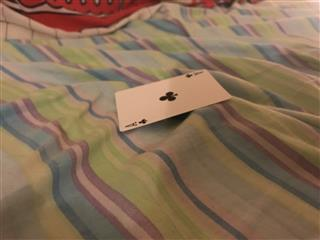AceOfClubs: (114, 68, 231, 131)
